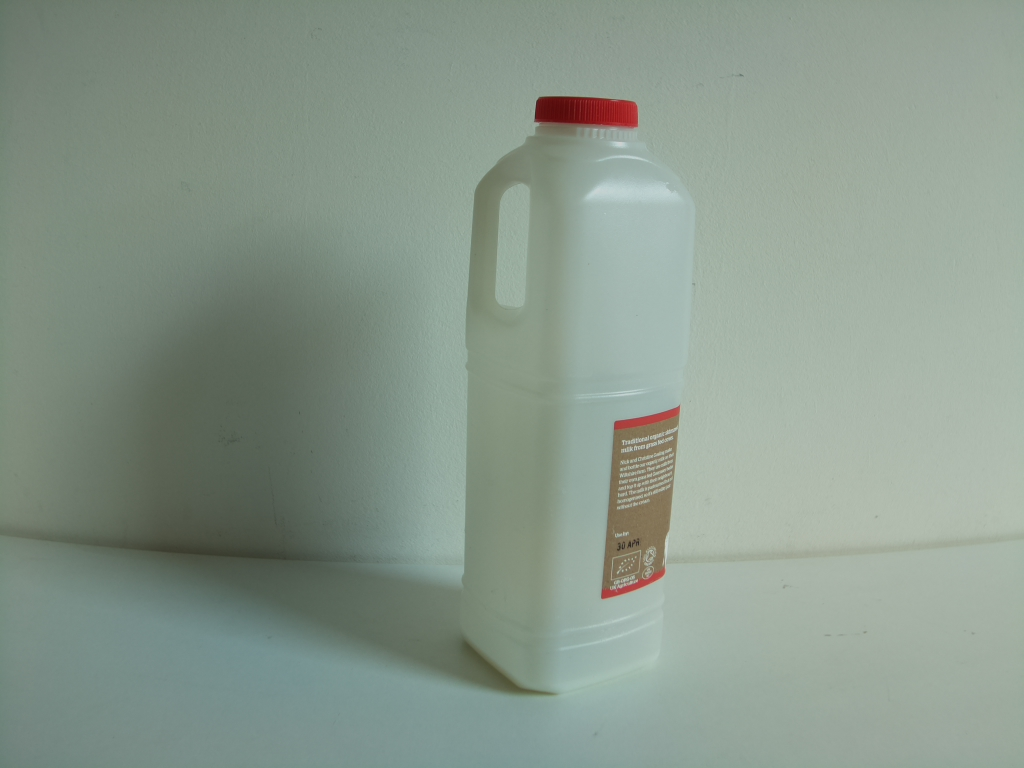milk: (449, 91, 698, 698)
